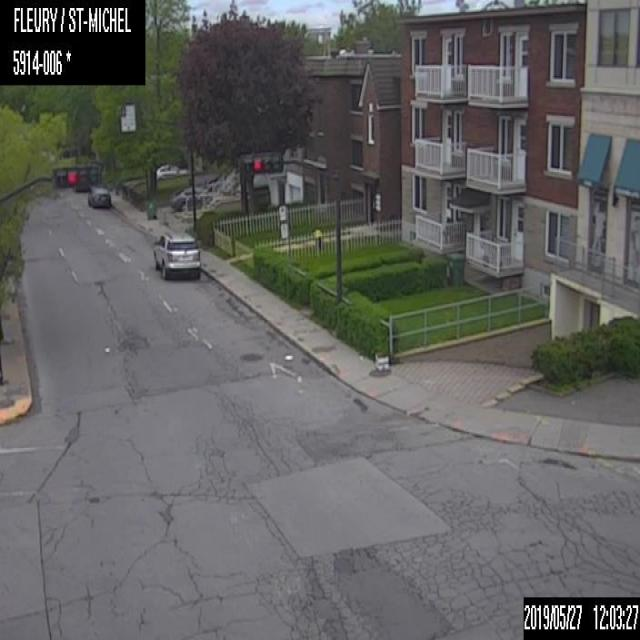vehicle: (153, 230, 201, 278), (85, 184, 111, 209)
